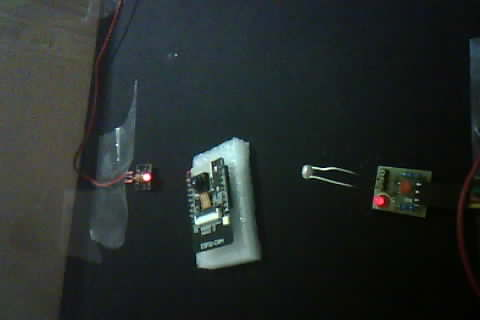esp32: (181, 155, 252, 265)
